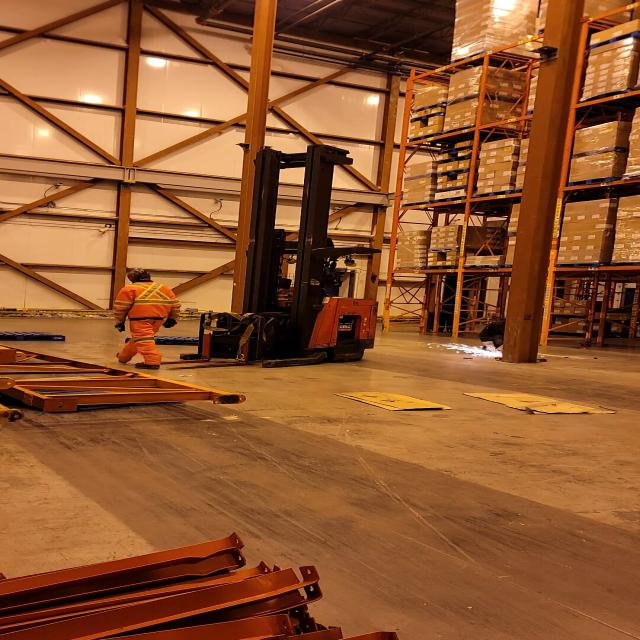forklift: (178, 152, 380, 365)
human: (96, 266, 181, 370), (472, 314, 525, 359)
objectofinterest: (1, 348, 254, 420), (457, 387, 625, 419), (332, 388, 448, 412), (125, 333, 210, 347), (1, 329, 74, 344)
